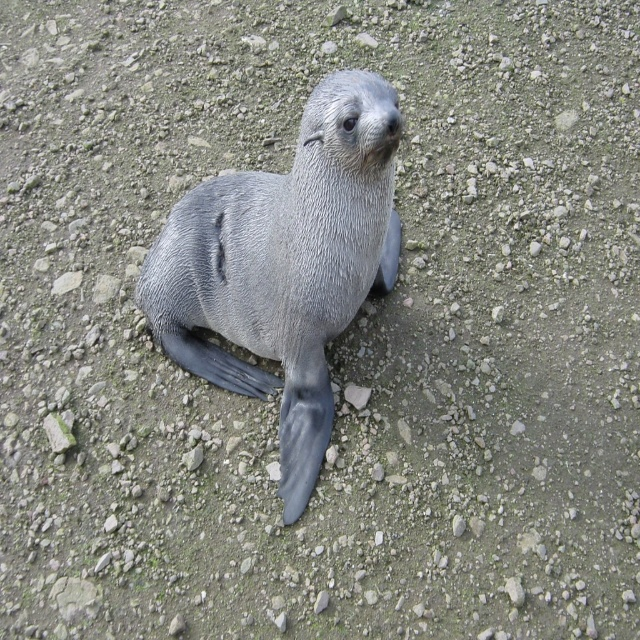Sea lion: (129, 74, 407, 535)
